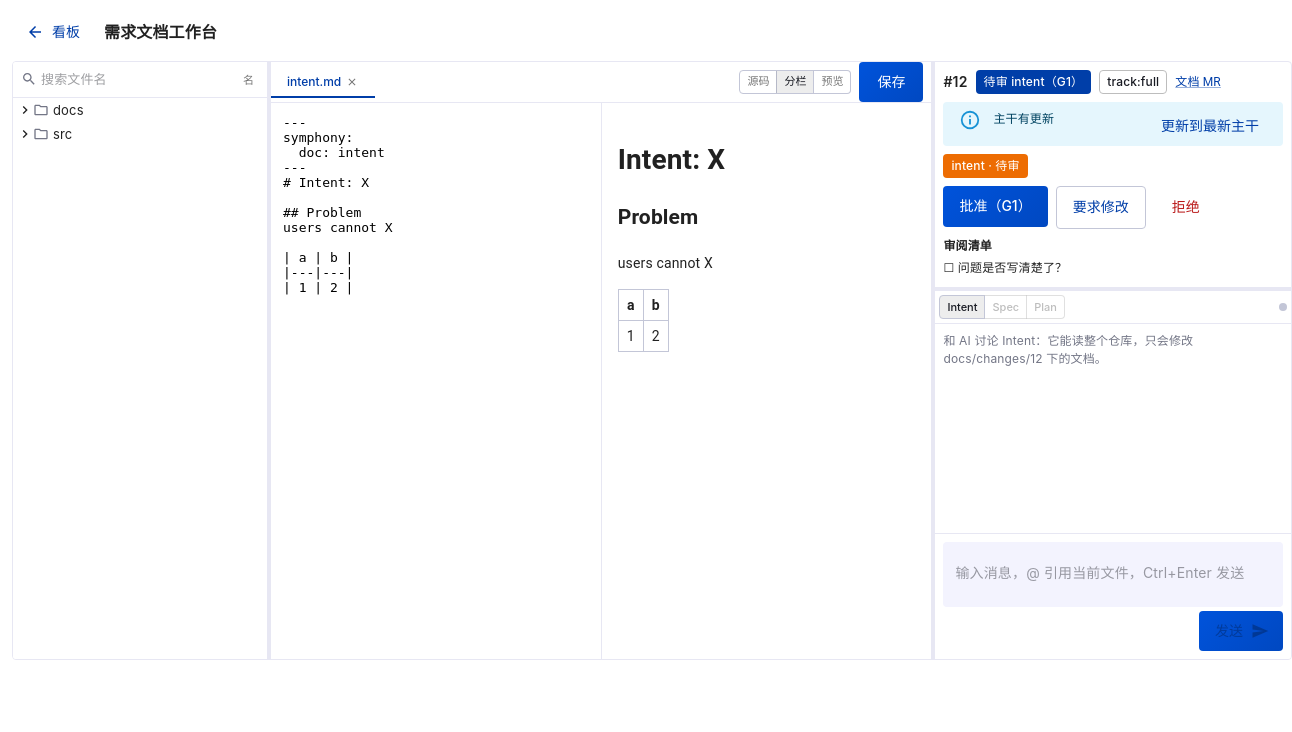
Test: WorkbenchPage › WS: sending before the socket is open shows a notice and sends nothing
In the text box named "AI 输入": coordinates (1113, 582) [955,562,1271,602], type "hi"
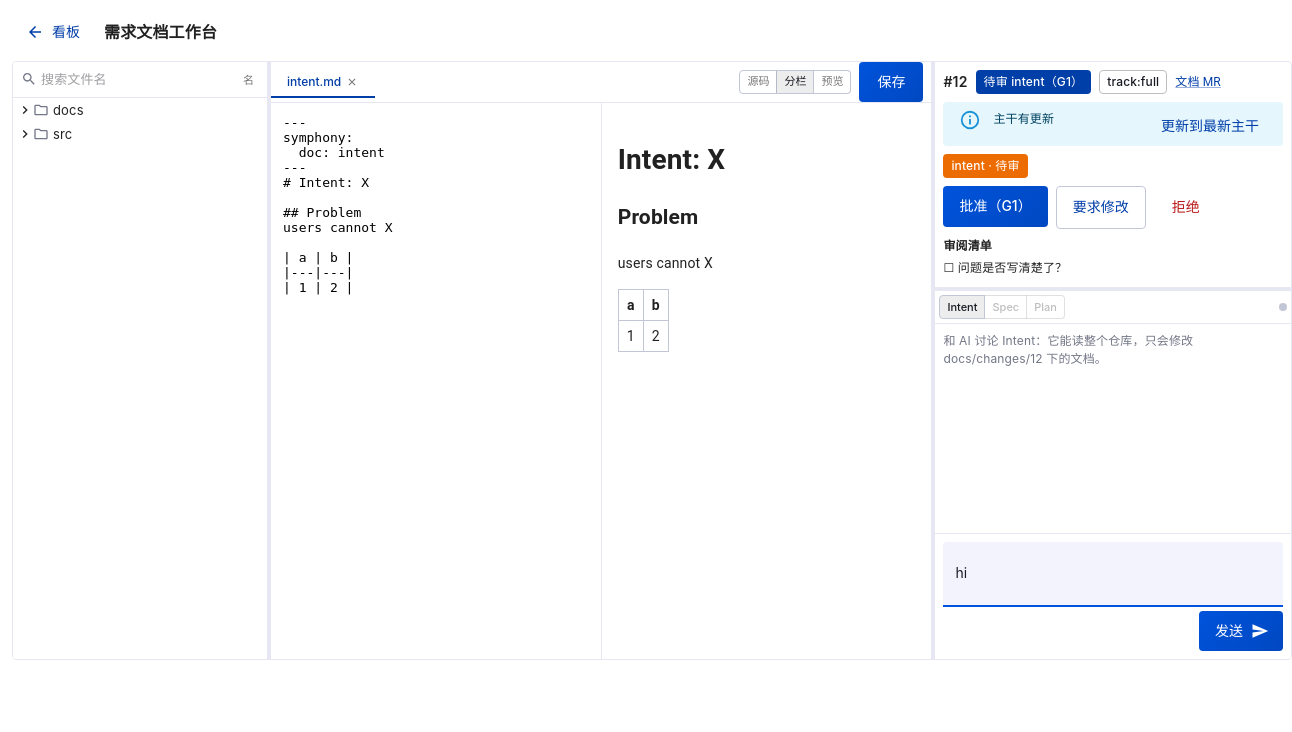
Click the button "发送": coordinates (1241, 631) [1199,610,1283,651]
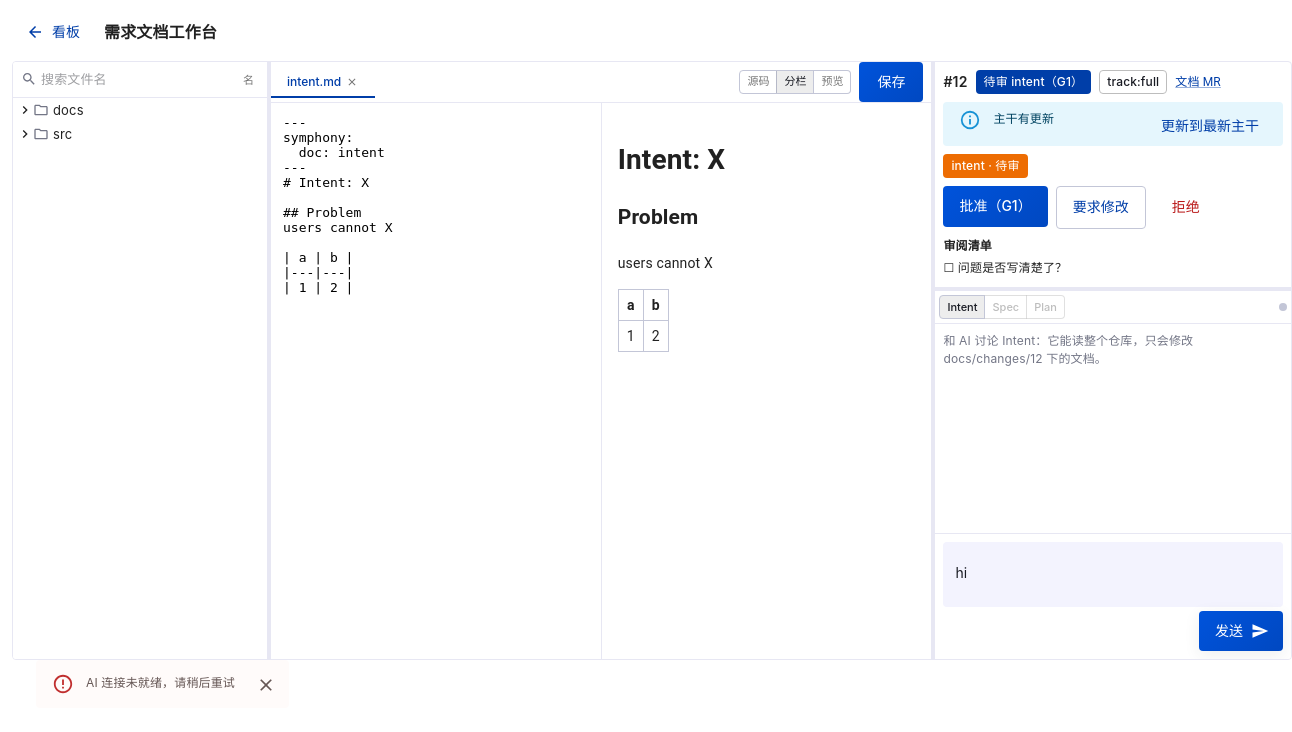
expect the text "AI 连接未就绪，请稍后重试" is shown: met, box [86,675,235,690]
